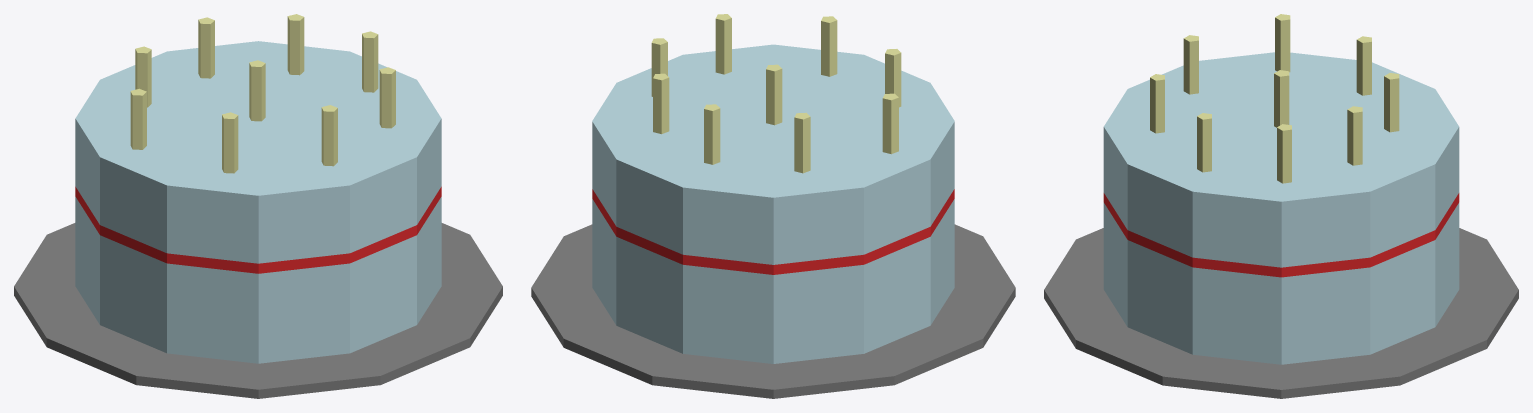
File: cake.fbx
The picture shows the model from 3 angles, left to right: view 1: azimuth 30°, elevation 25°; view 2: azimuth 150°, elevation 25°; view 3: azimuth 270°, elevation 25°; orthographic projection. The views are drawn at different scales.
Parts seen in each view (by area): view 1: Cylinder.001; view 2: Cylinder.001; view 3: Cylinder.001.
Part boxes in pixels (x1,y1,x2,y2): Cylinder.001: (14, 14, 502, 398); Cylinder.001: (531, 14, 1015, 398); Cylinder.001: (1044, 14, 1518, 398).
Size of the model in its own units: 219 by 126 by 219.
